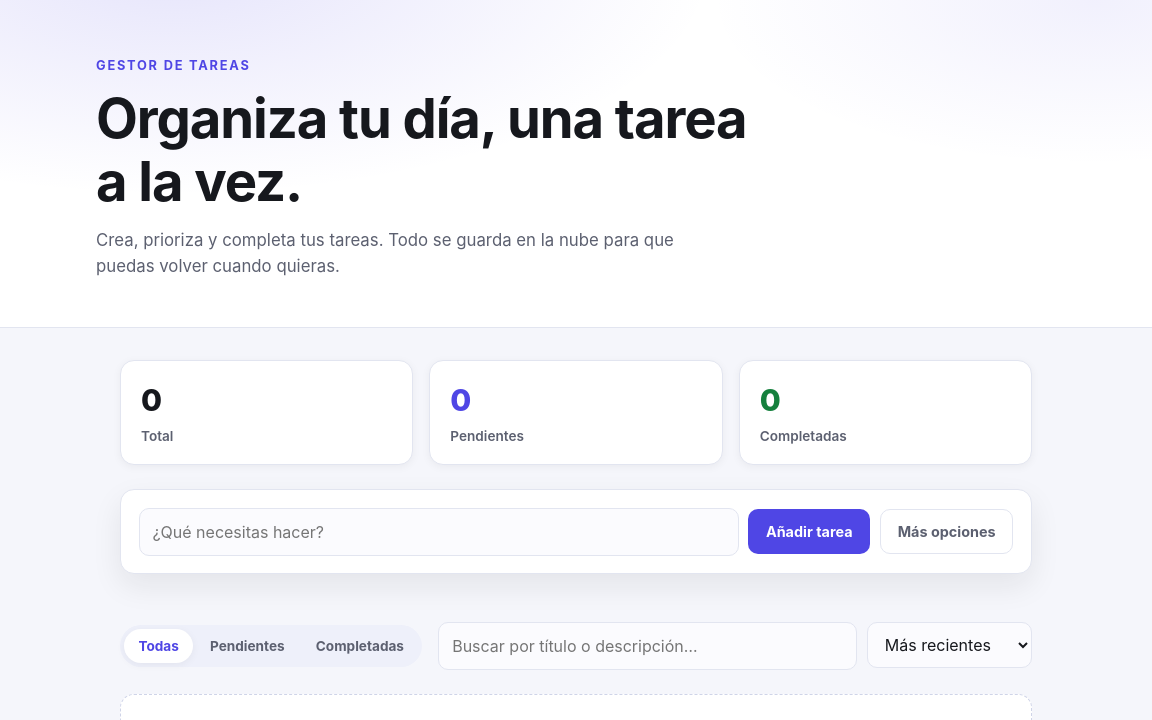
Test case: App › creates a task from the form
Type "Nueva tarea" into the field with placeholder "¿Qué necesitas hacer?".
click(439, 532); type("Nueva tarea")  # box [139,508,738,556]
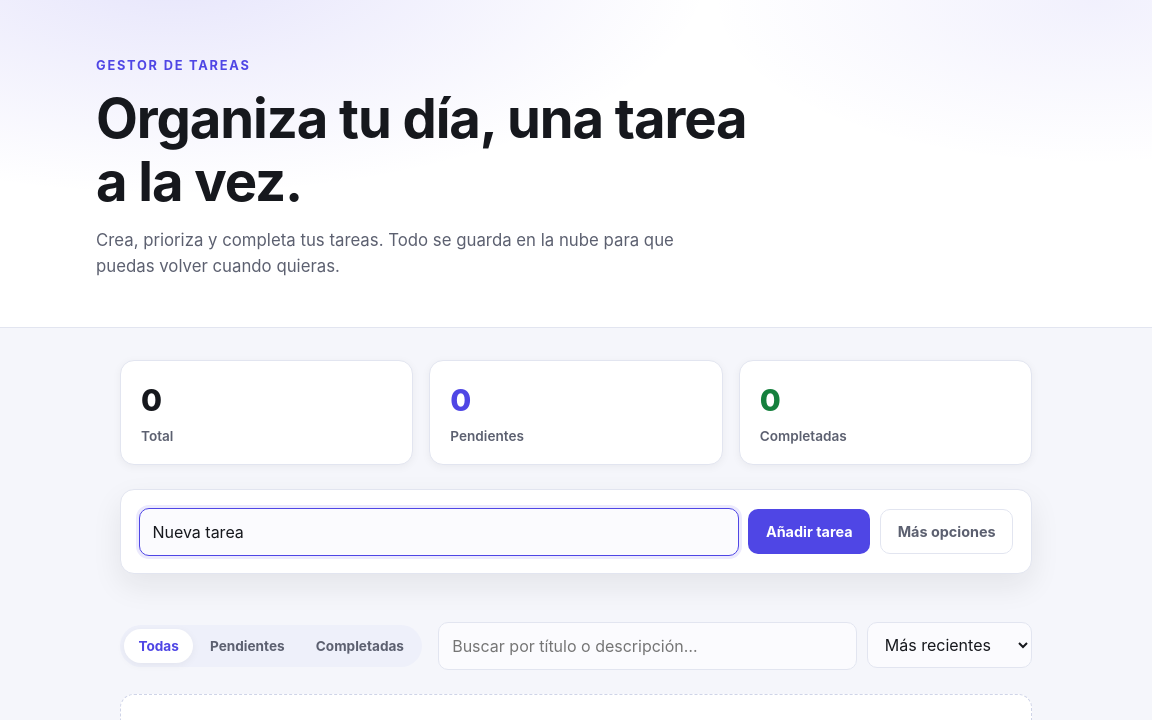
Click the button "Añadir tarea".
click(809, 532)  # box [748,509,870,554]
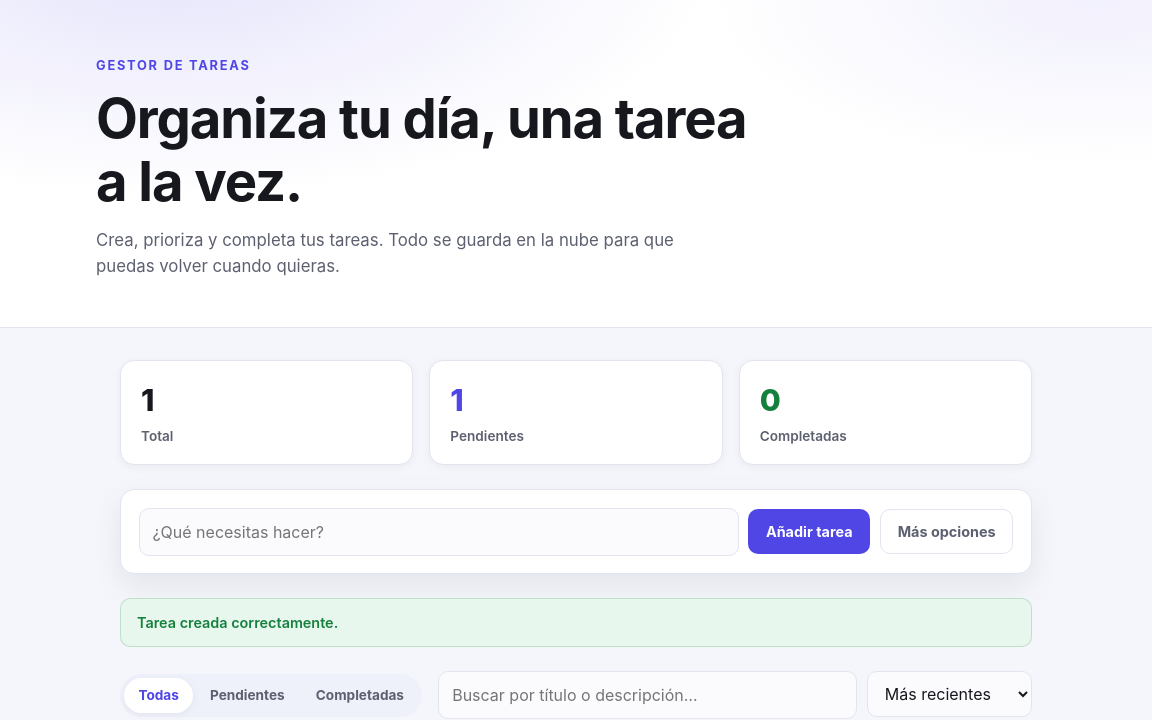
Check: the text "Tarea creada correctamente." is shown, box [120,598,1032,647]
